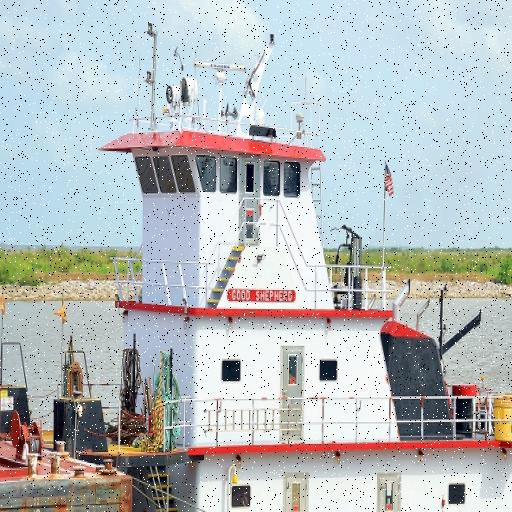tugboat: (1, 51, 512, 512)
